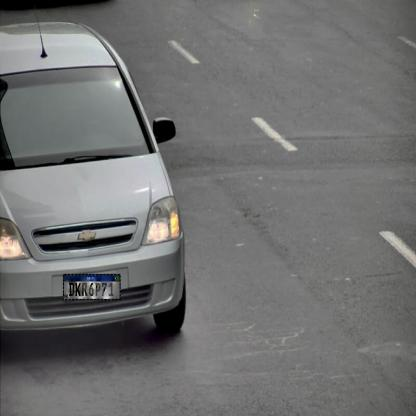PlacaM: (63, 274, 121, 300)
